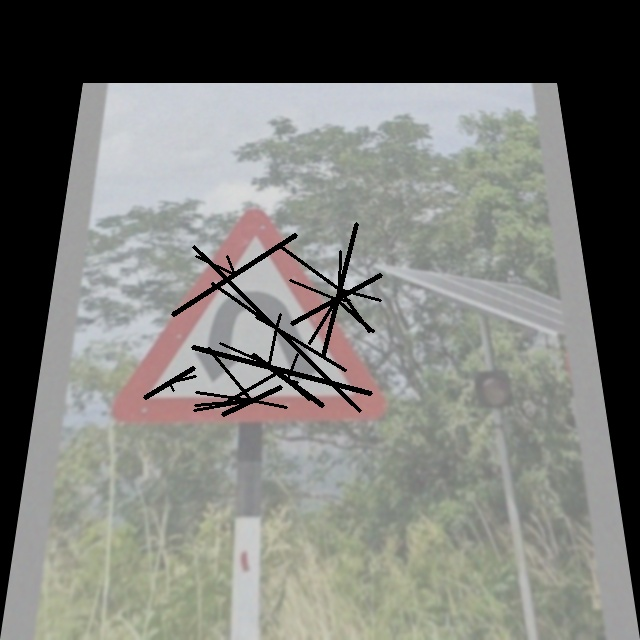Left_Hair_Pin_Bend: (107, 209, 392, 420)
